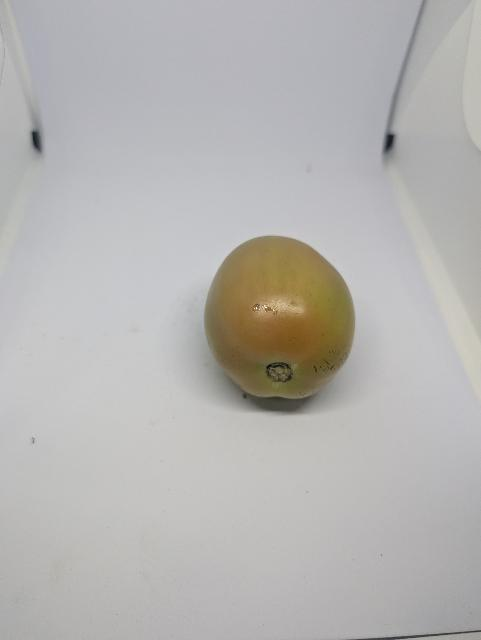breaker: (200, 229, 367, 414)
